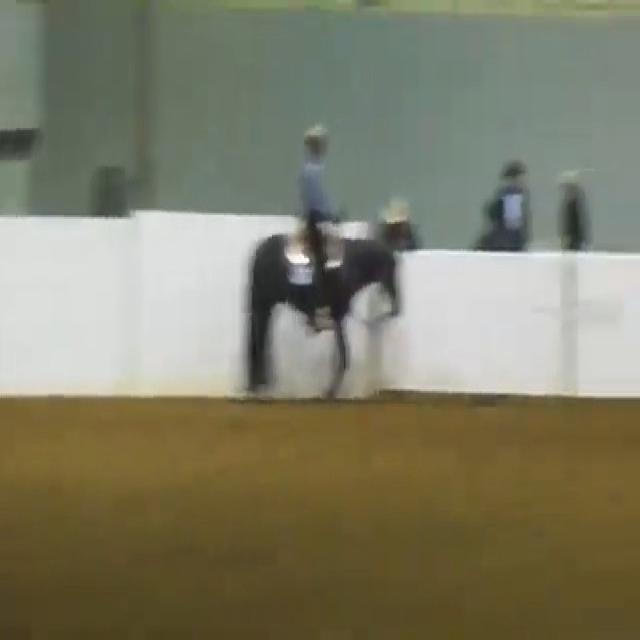horse: (207, 115, 426, 430)
